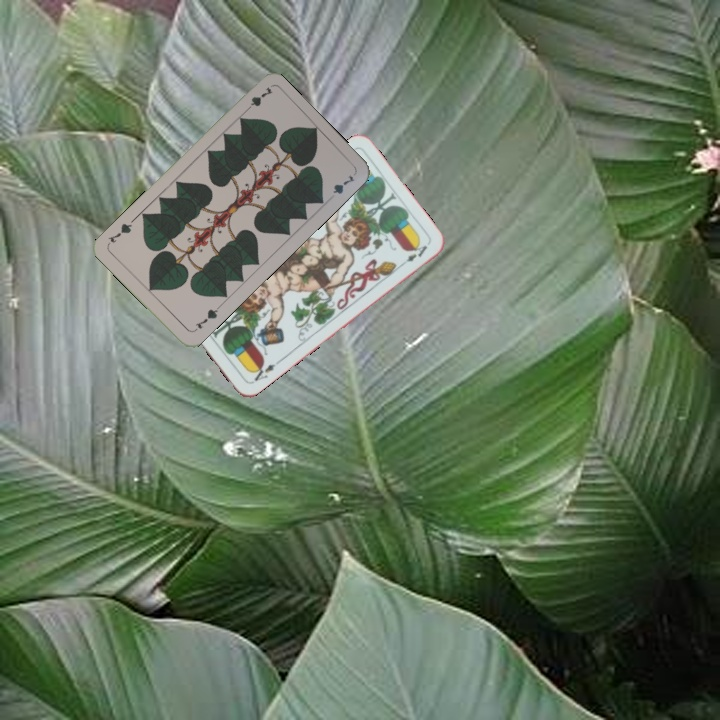EA: (247, 356, 281, 384)
G7: (240, 83, 275, 116), (190, 302, 222, 334)
